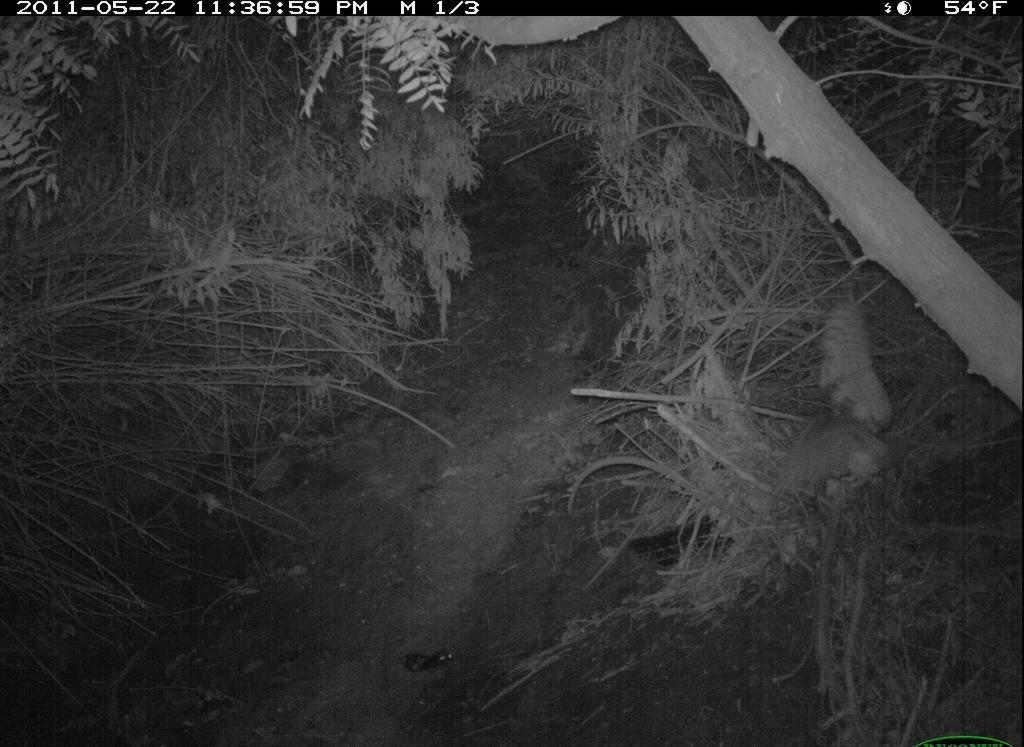bird: (777, 299, 905, 519)
